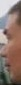boots: (0, 80, 10, 85), (0, 82, 8, 85)
